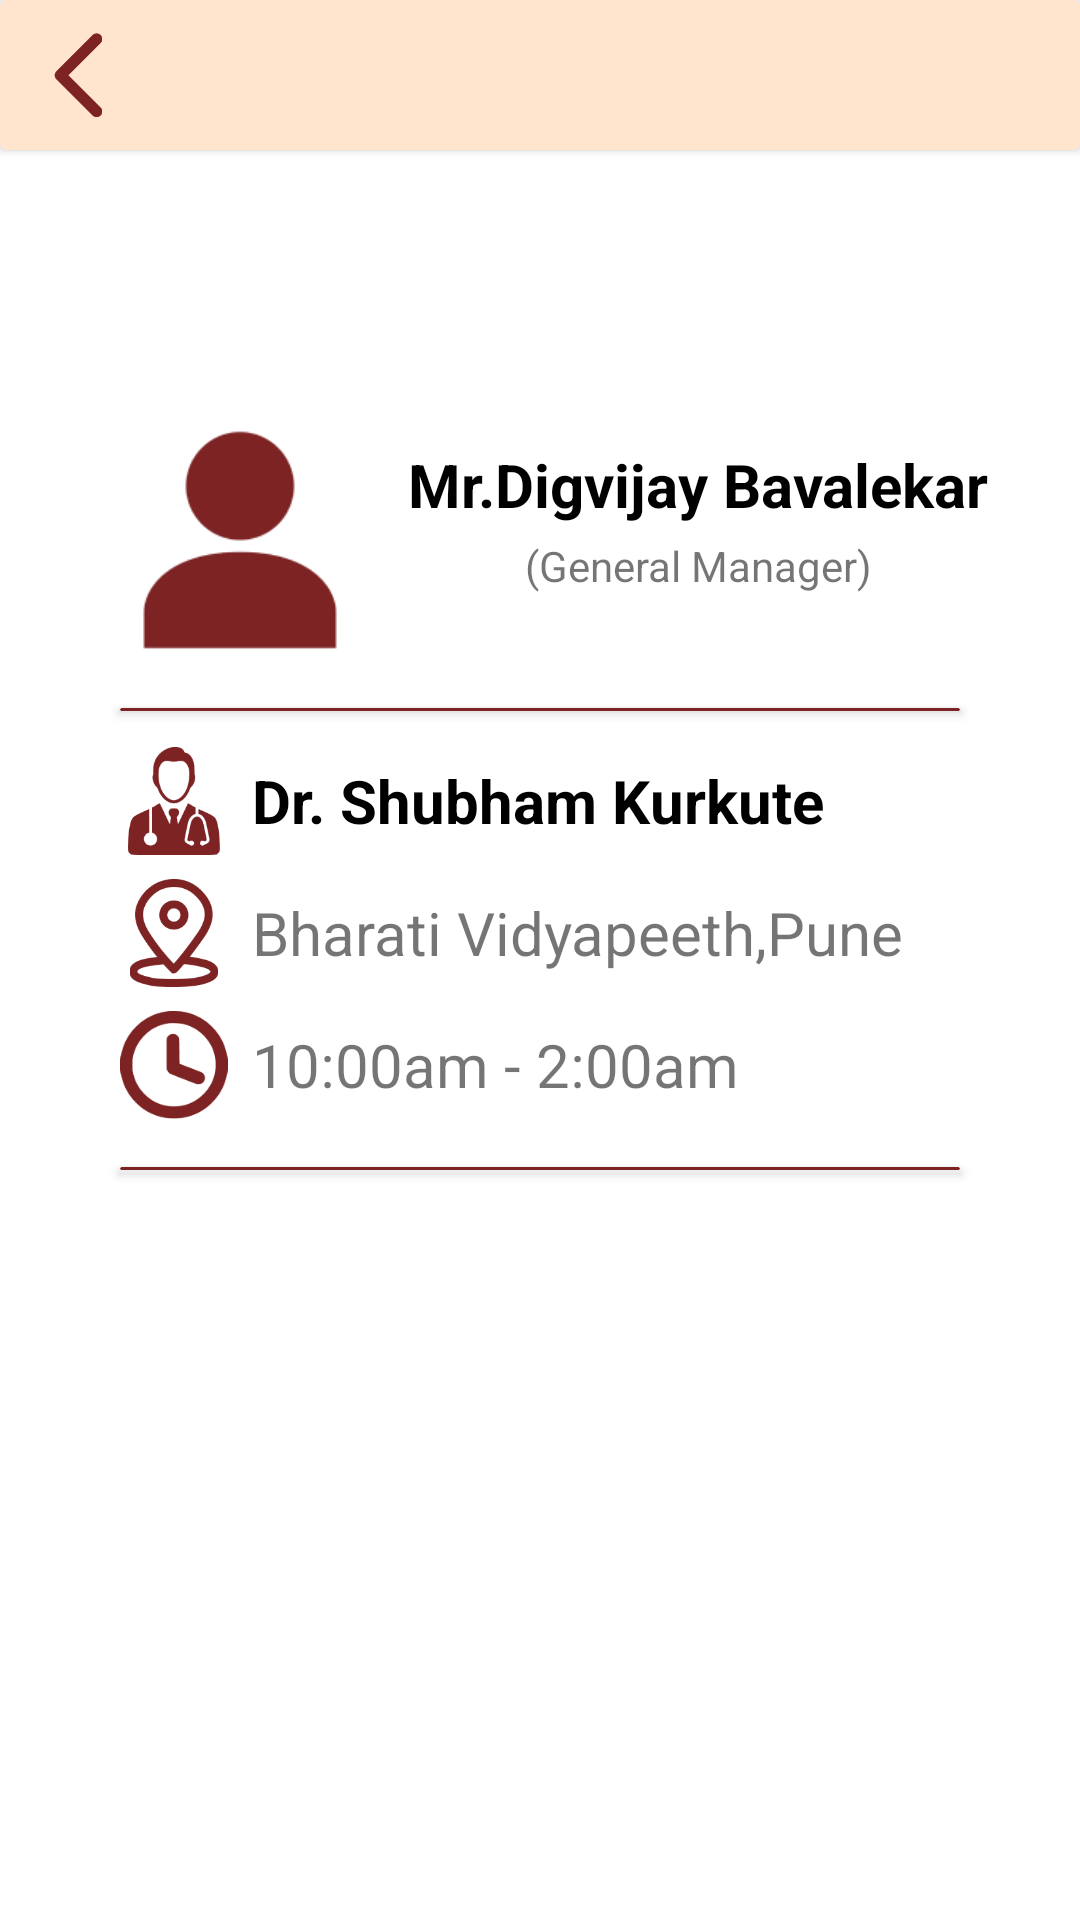

Icons on this 1080px x 1920px Android screen, each with the point to tap as [x,y]:
arrow: [78,75]
clock: [174,1065]
doc: [174,801]
location: [174,933]
user: [240,540]
